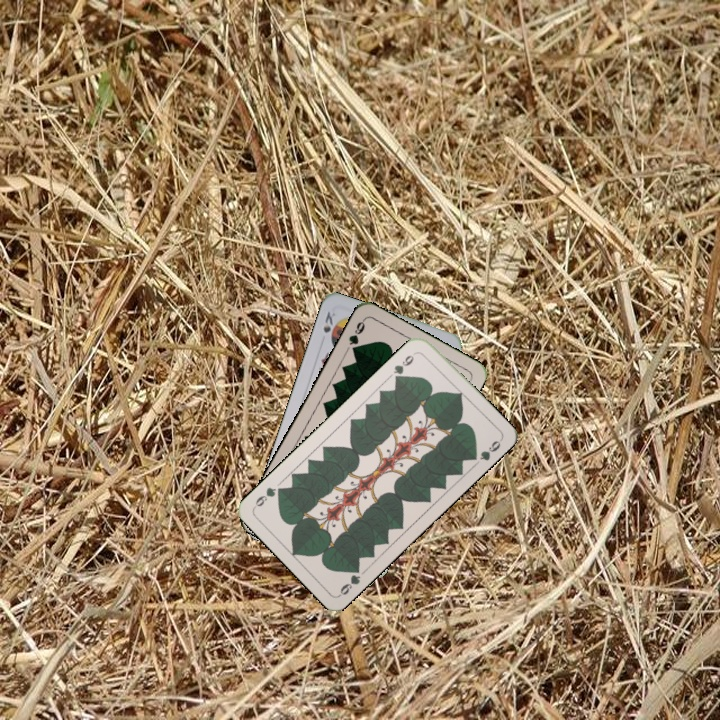G9: (389, 348, 419, 383), (335, 562, 363, 598), (344, 315, 368, 356)
SK: (319, 307, 338, 335)
